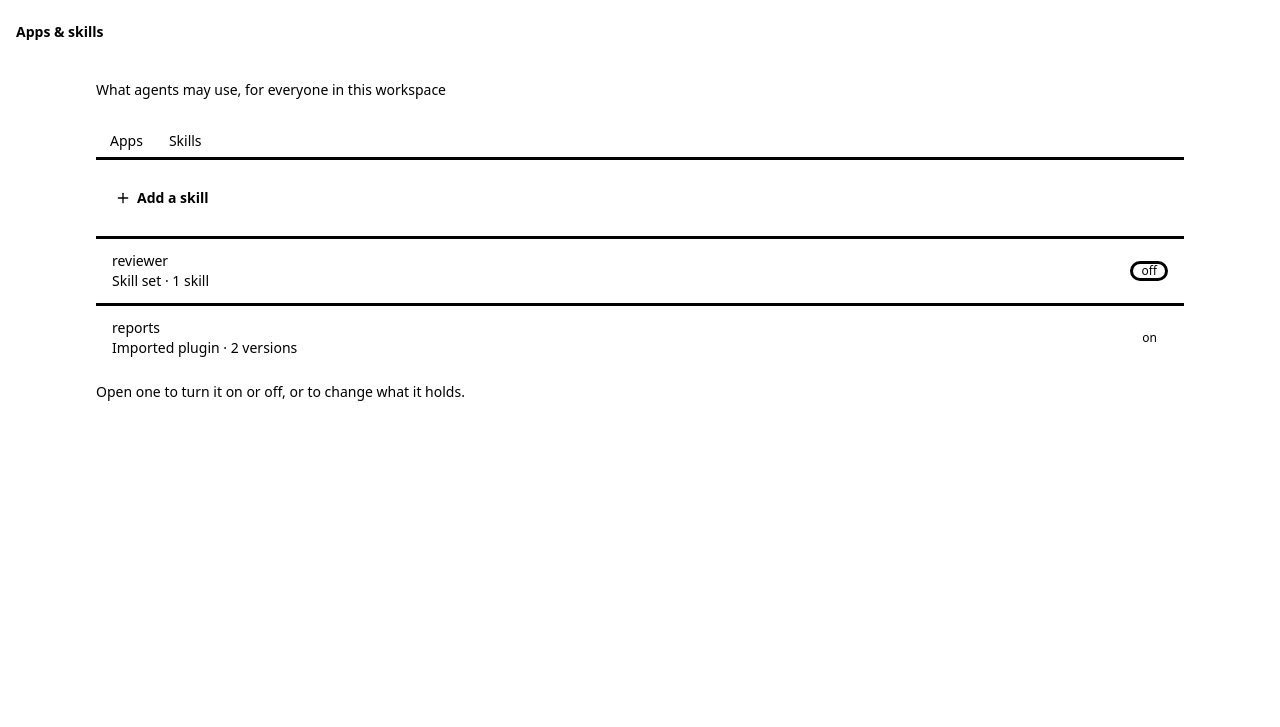
Apps & skills: skills › opens the ways to add a skill, and each way shows only its form
Step 1. Click the button "Add a skill" → (162, 198), box [96, 180, 228, 216]
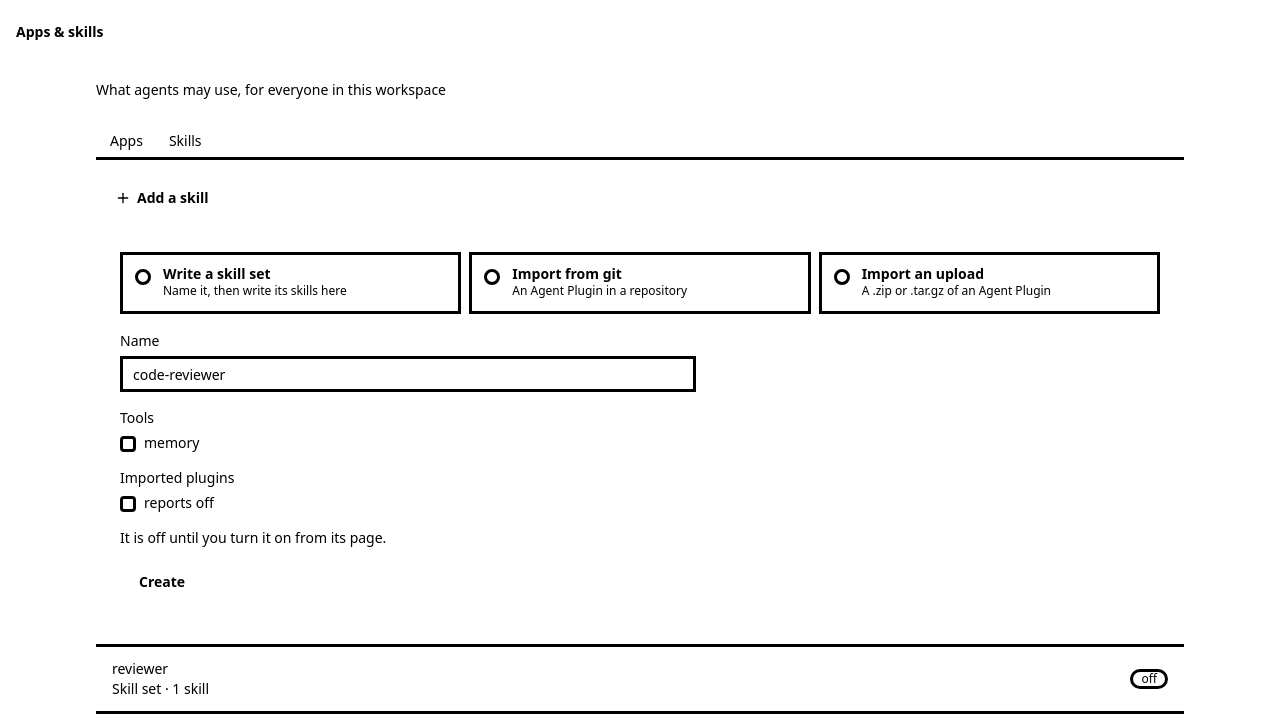
Expected: the text "Write a skill set" is shown, [163, 264, 270, 283]
Expected: the text "Import from git" is shown
Expected: the text "Import an upload" is shown, [862, 264, 984, 283]
Step 2. Click the text "Import from git" → (567, 274), box [512, 264, 622, 283]
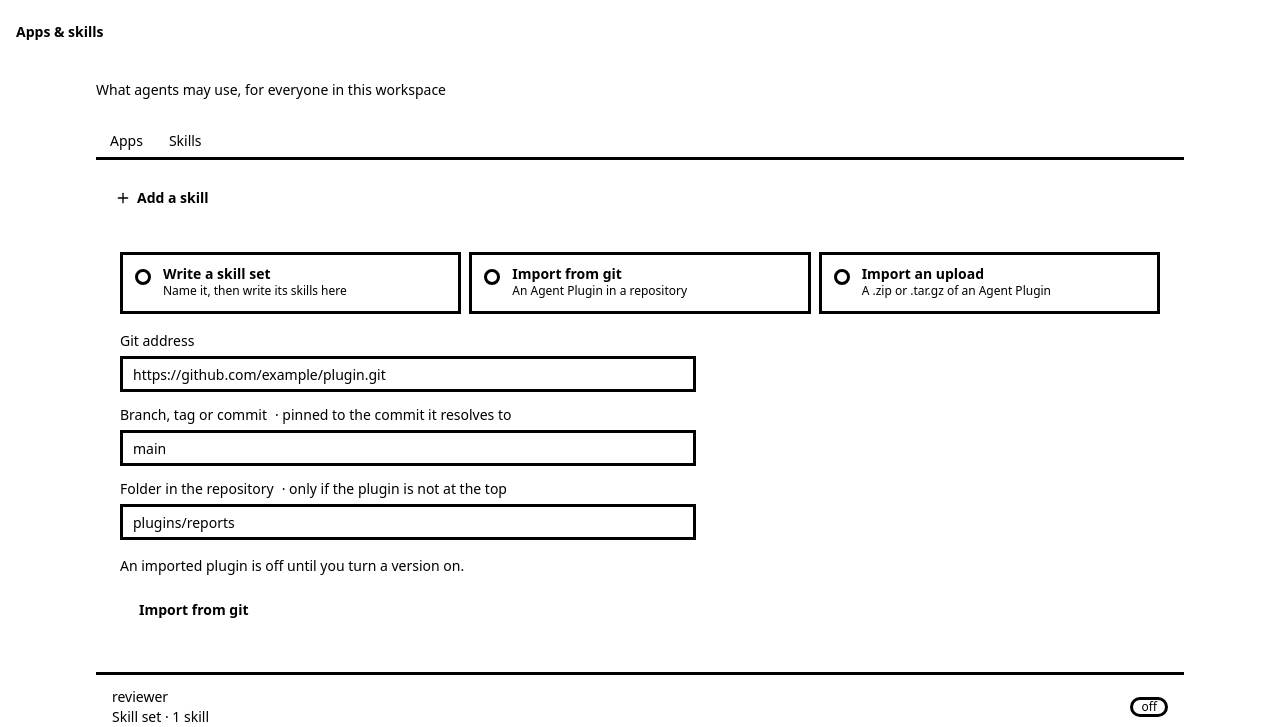
Expected: the form named "kind" holds "git", [120, 334, 696, 628]
Expected: the button "Create" is gone
Step 3. Click the text "Import an upload" → (923, 274), box [862, 264, 984, 283]
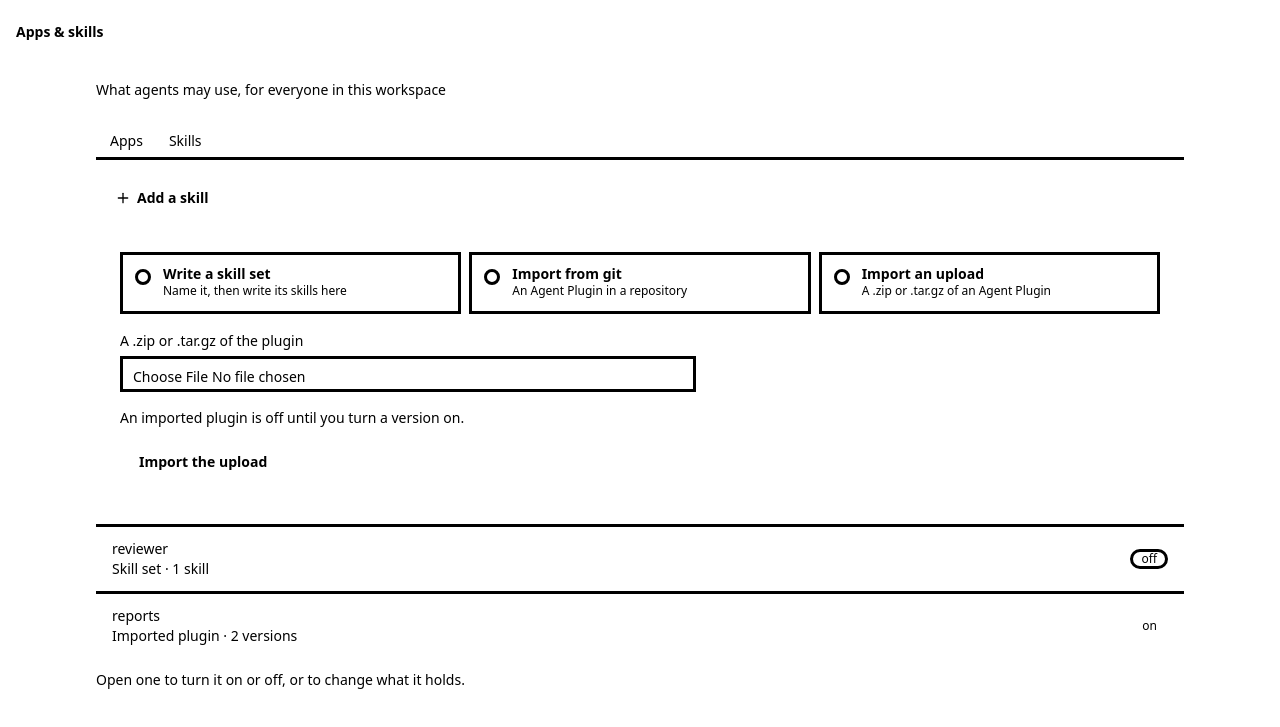
Expected: the form named "Import the upload" has attribute action="/admin/integrations/import", [120, 334, 696, 480]
